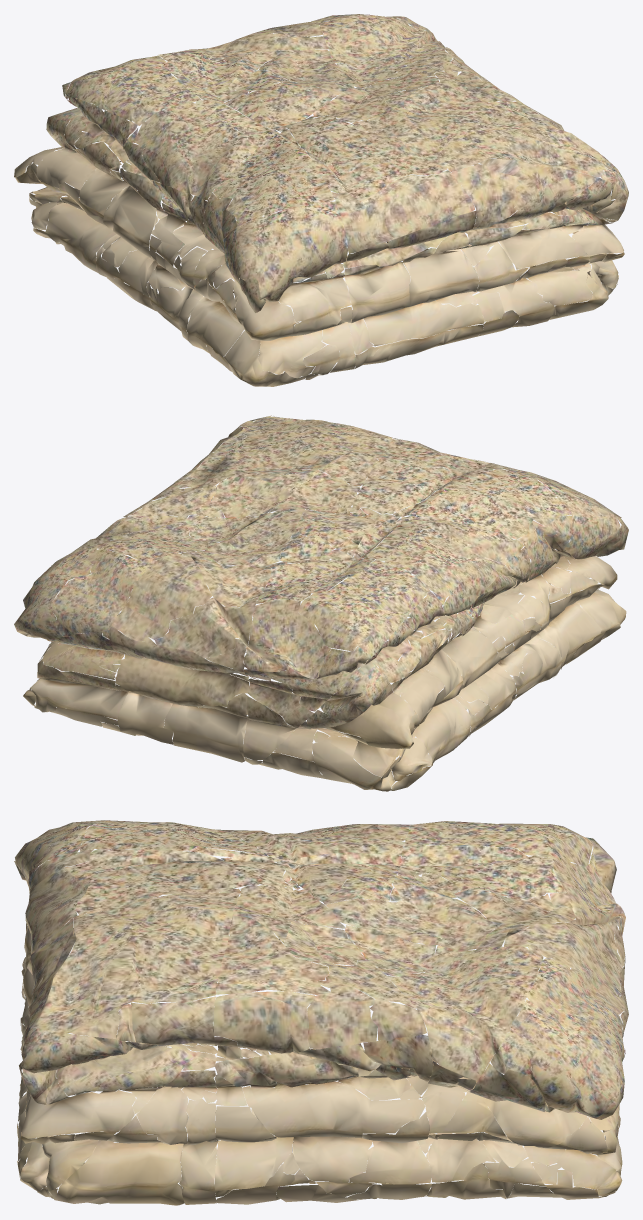
File: futon_prop.glb
3 renders of one model, top to bottom at view 1: azimuth 30°, elevation 25°; view 2: azimuth 150°, elevation 25°; view 3: azimuth 270°, elevation 25°, orthographic. The views are drawn at different scales.
Visible parts, largest first — view 1: prop_futon; view 2: prop_futon; view 3: prop_futon.
Part boxes in pixels (x1,y1,x2,y2): prop_futon: [14, 14, 628, 386]; prop_futon: [14, 415, 628, 791]; prop_futon: [14, 820, 628, 1205].
Size of the model in its own units: 0.9032 by 0.3793 by 0.969.
1 material, 1 textured.
